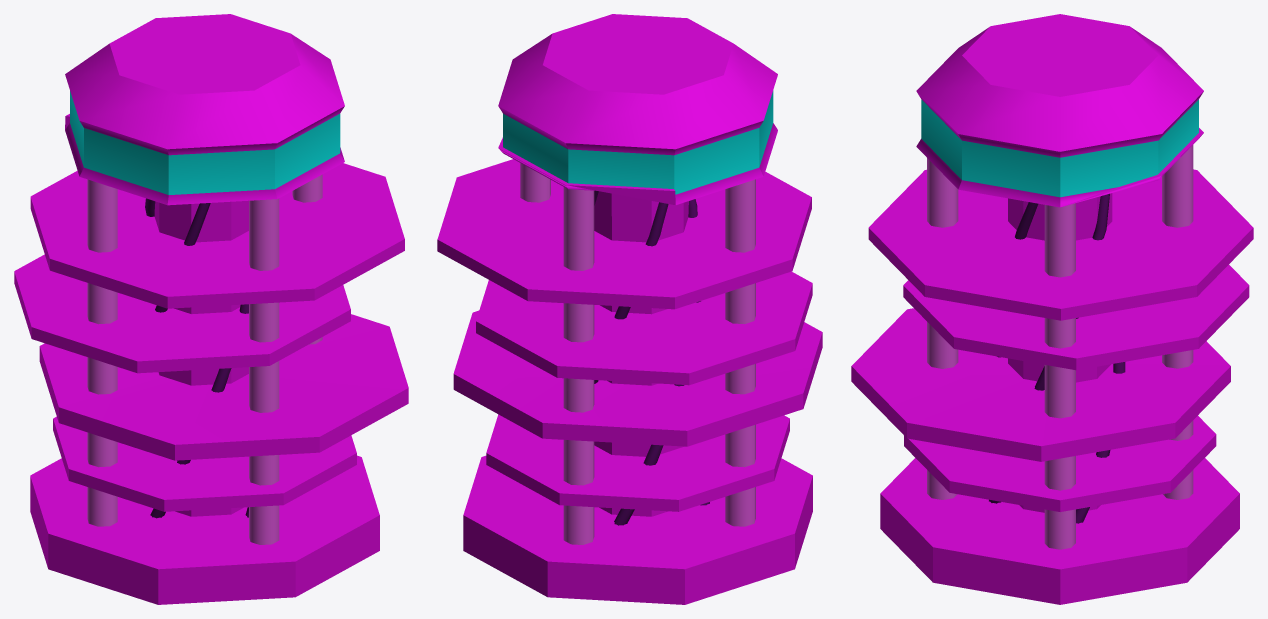
3 views of the same model, side by side, from view 1: azimuth 30°, elevation 25°; view 2: azimuth 150°, elevation 25°; view 3: azimuth 270°, elevation 25° (orthographic).
Parts seen in each view (by area): view 1: AZ234; view 2: AZ234; view 3: AZ234.
Part boxes in pixels (x1,y1,x2,y2): AZ234: [14, 14, 408, 604]; AZ234: [437, 14, 822, 604]; AZ234: [851, 14, 1253, 604].
Size of the model in its own units: 1.03 by 1.35 by 1.04.
